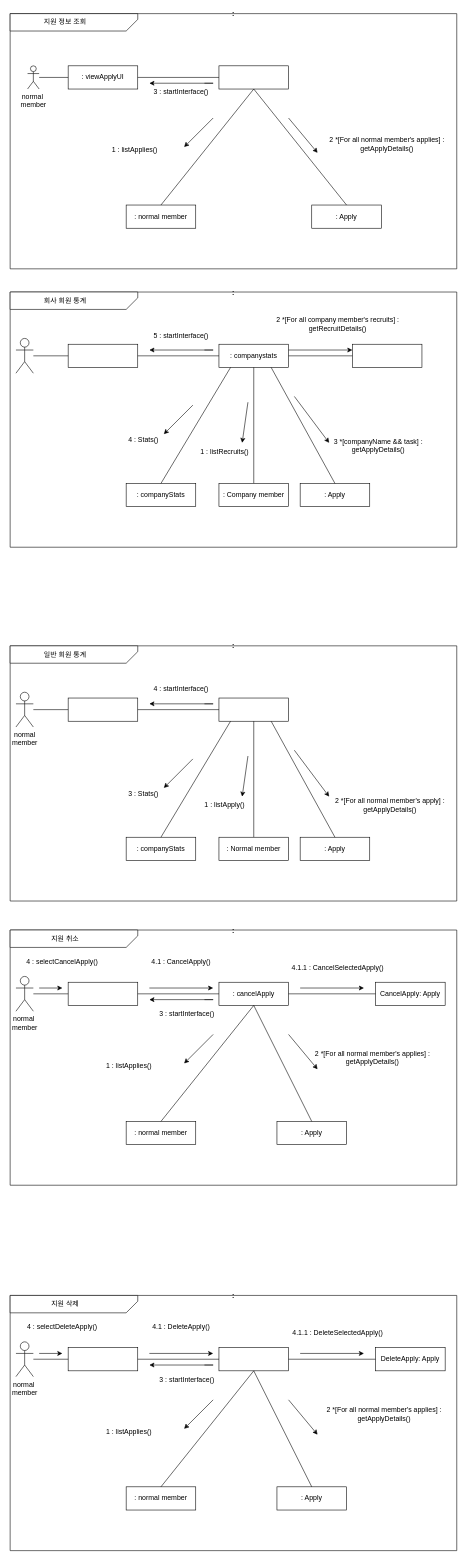
Some shapes in this 467 by 1561 pixel diagram are drawn without their labels. The centre of each missing label's shape, as x and y in pixels:
: cancelApplyUI: the point at 103,993
: companystatsUI: the point at 103,355
: deleteApply: the point at 253,1359
: deleteApplyUI: the point at 103,1359
: normalstats: the point at 253,709
: normalstatsUI: the point at 103,709
: Recruit: the point at 387,355
: viewApply: the point at 253,77
company member: the point at 24,355
